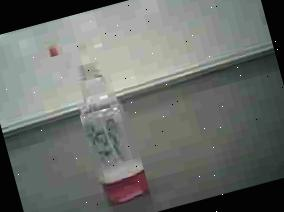hazard: (43, 29, 154, 212)
